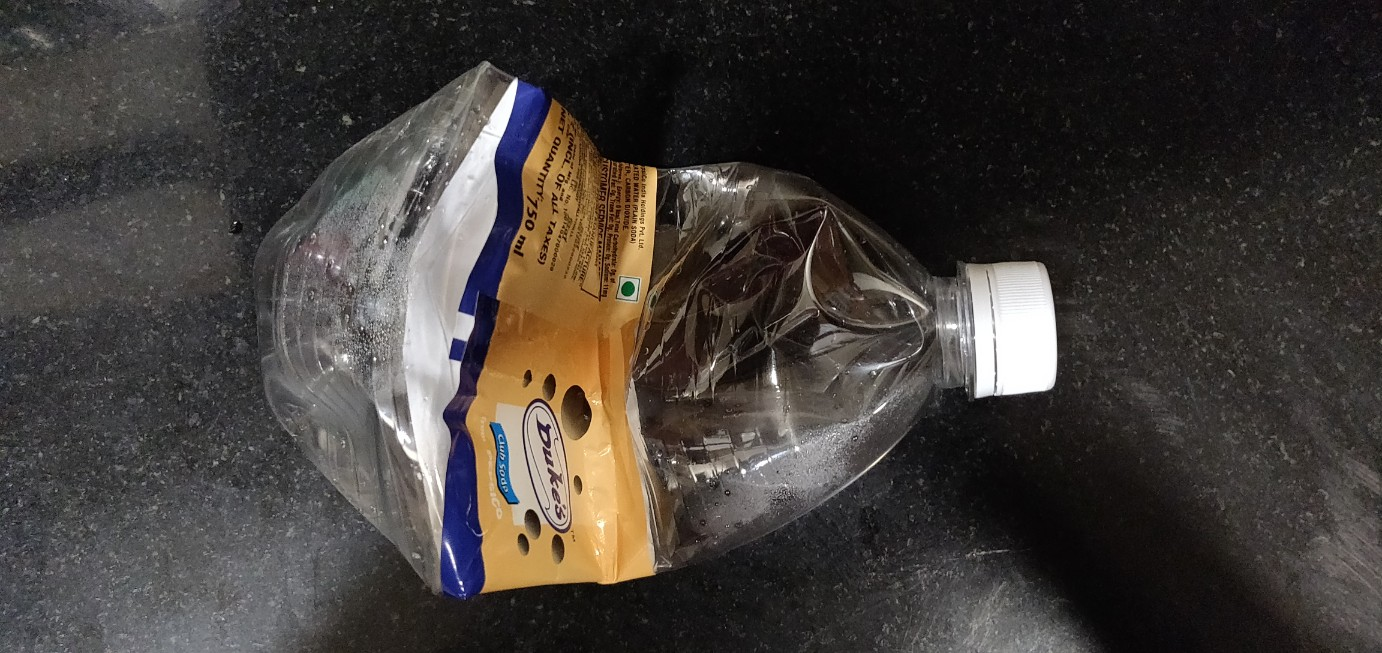Electronics: (213, 8, 1101, 617)
